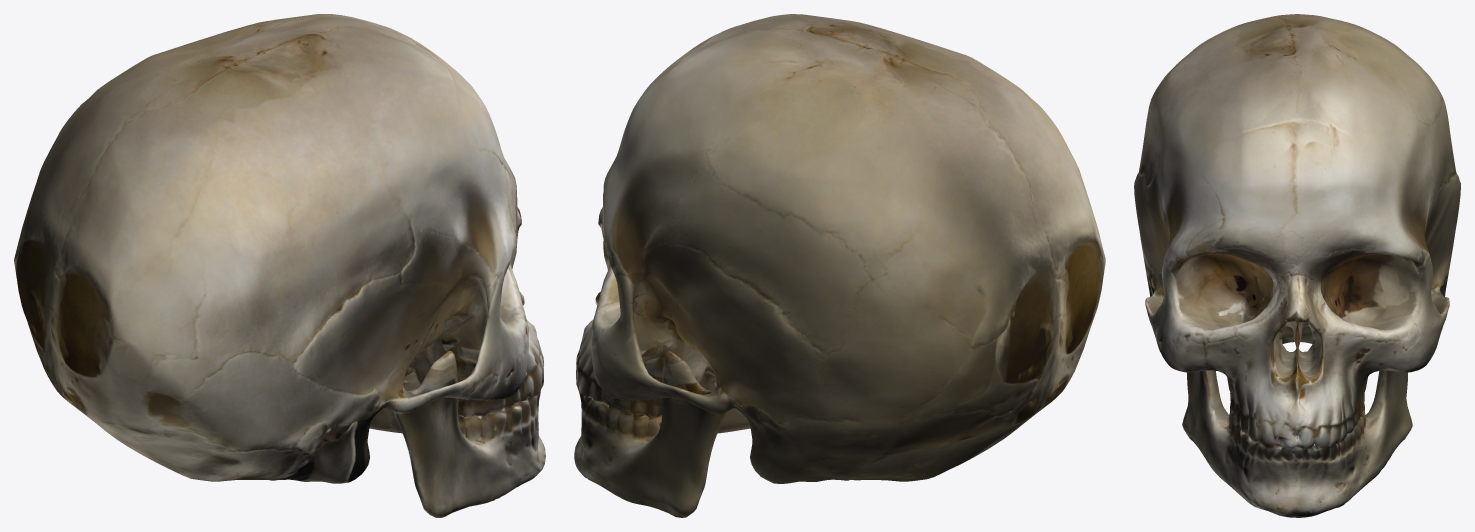
Rendered from refined_human skull.glb.
The picture shows the model from 3 angles, left to right: view 1: azimuth 30°, elevation 25°; view 2: azimuth 150°, elevation 25°; view 3: azimuth 270°, elevation 25°; orthographic projection. The views are drawn at different scales.
Size of the model in its own units: 1.99 by 1.88 by 1.47.
1 material, 1 textured.
